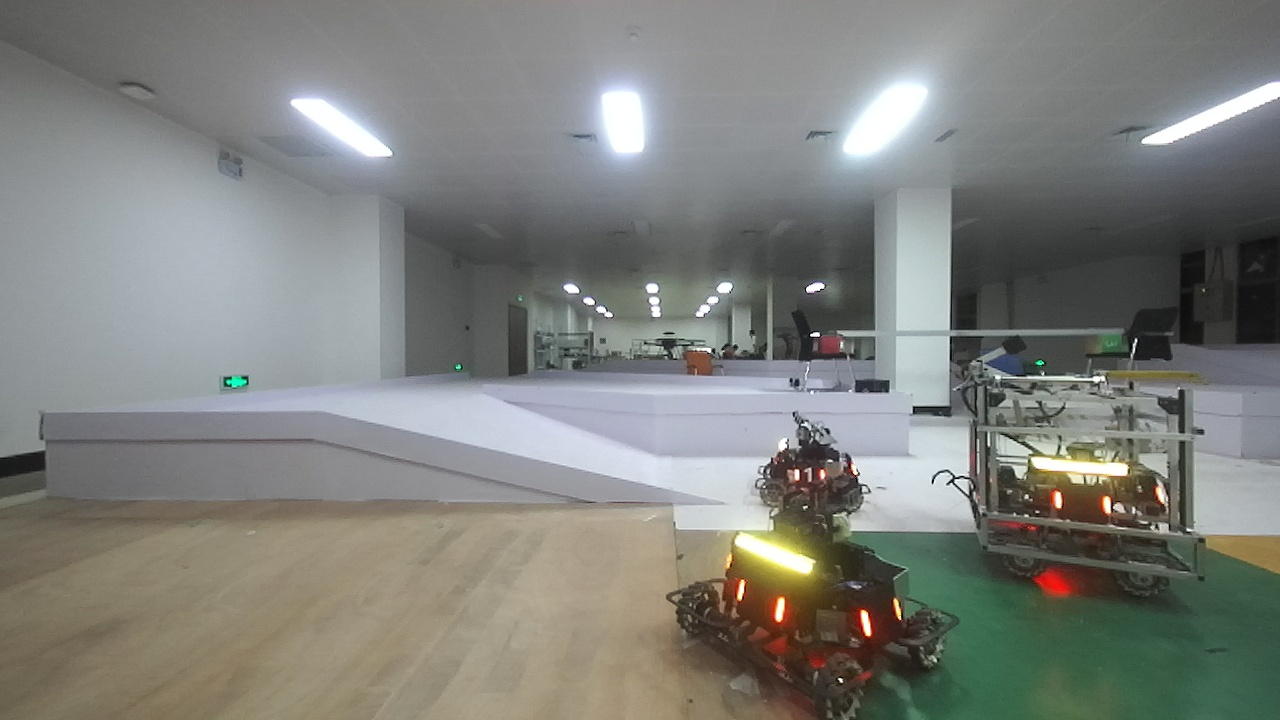car: (944, 333, 1220, 625), (685, 512, 964, 720), (739, 406, 880, 524)
